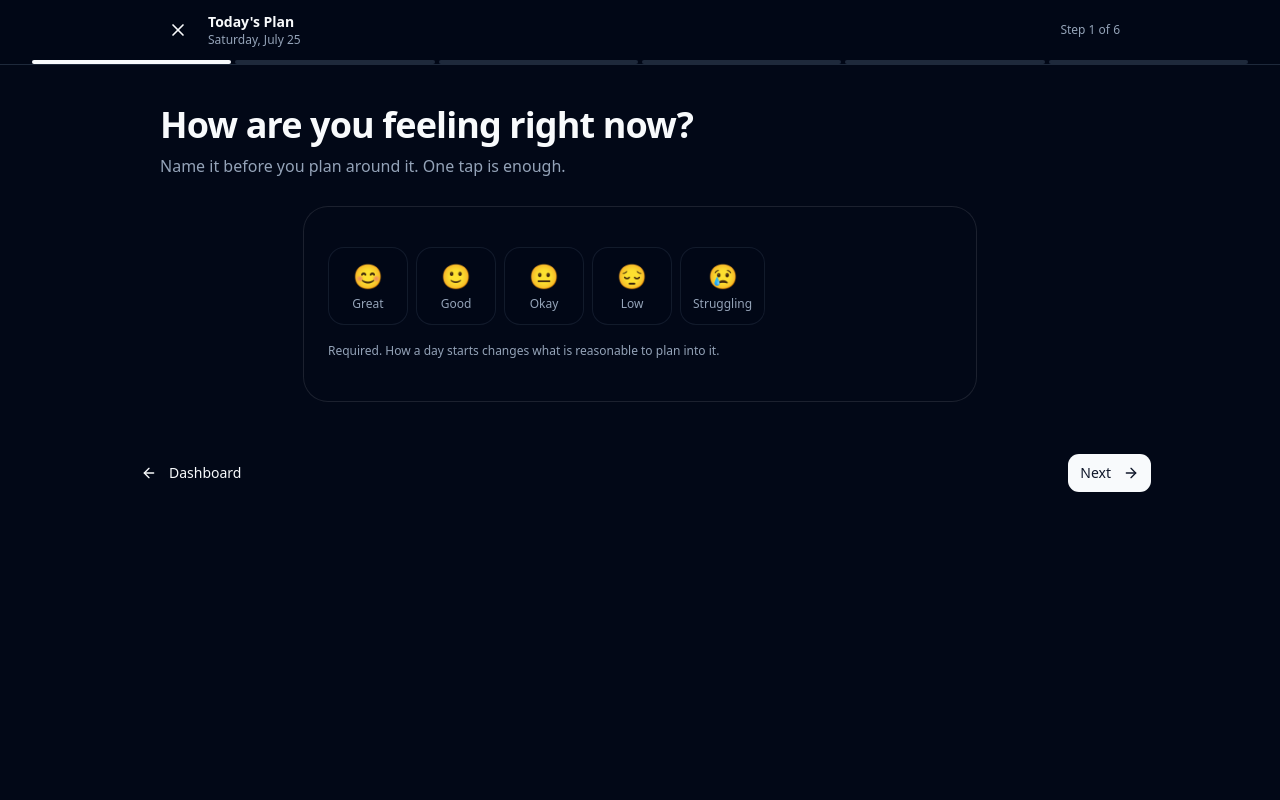
it: TodayPlanner › blocks progress until a mood is chosen
Click the button "Next". click: (1110, 472)
box: [1067, 452, 1152, 492]
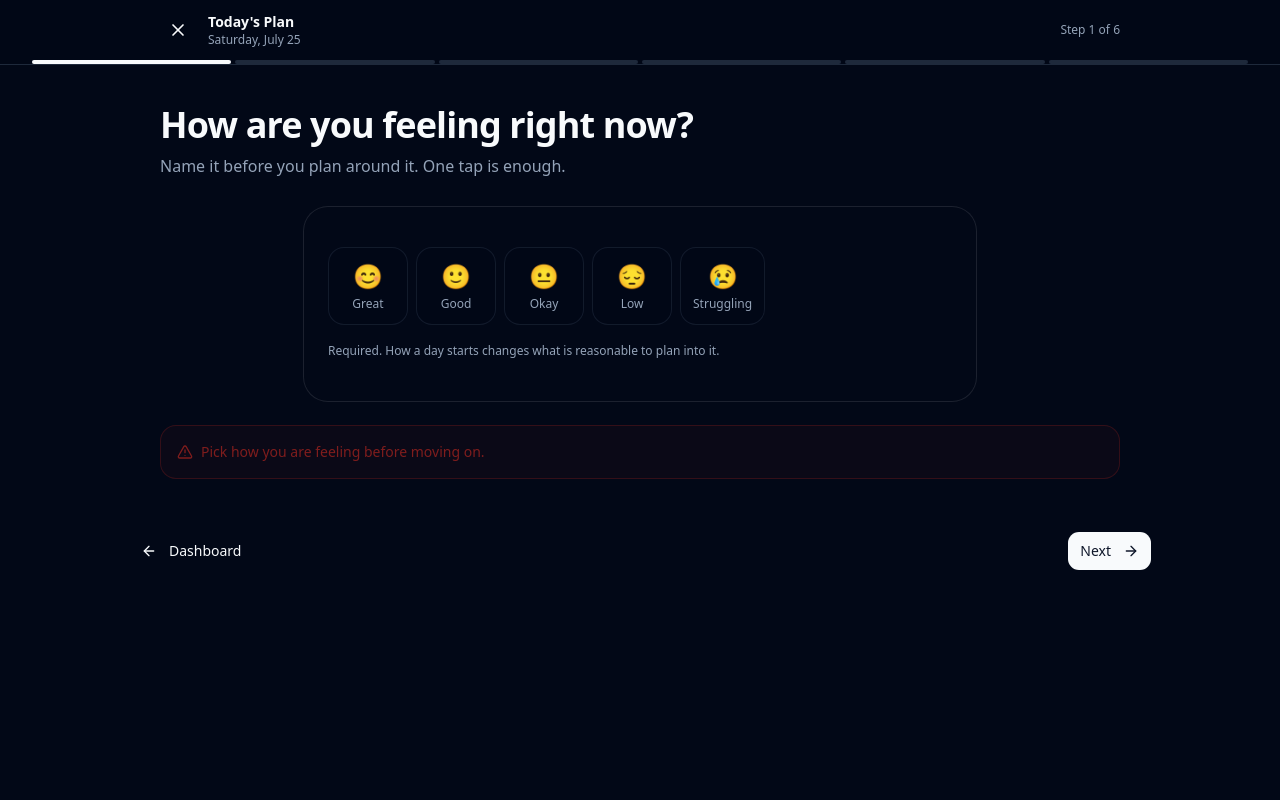
Expected: the heading "How are you feeling right now?" is shown, [160, 100, 693, 149]
Now the message shows "Pick how you are feeling", box [201, 442, 484, 460]
Click the button "🙂 good". click: (456, 286)
box: [416, 247, 496, 325]
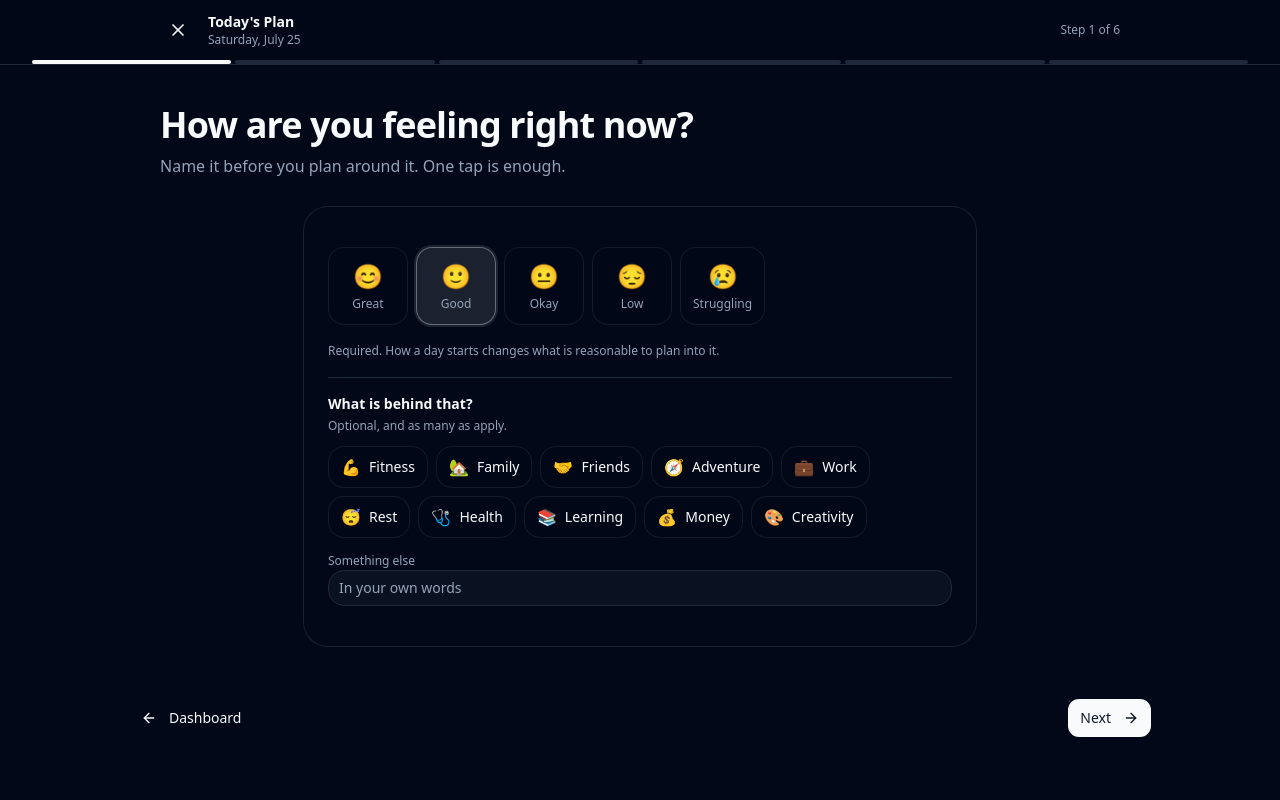
Click the button "Next". click: (1110, 718)
box: [1067, 698, 1152, 738]
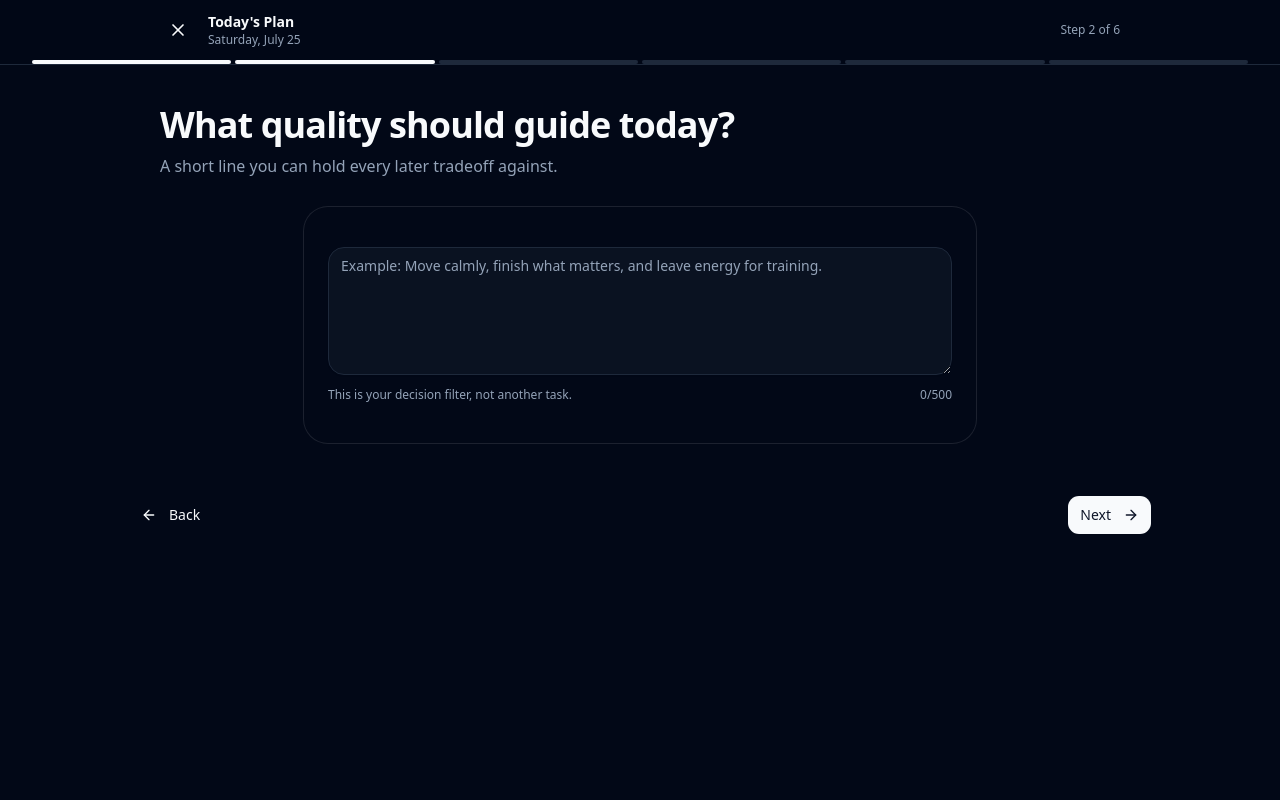
Now the heading "What quality should guide today?" is shown, box [160, 105, 832, 145]
